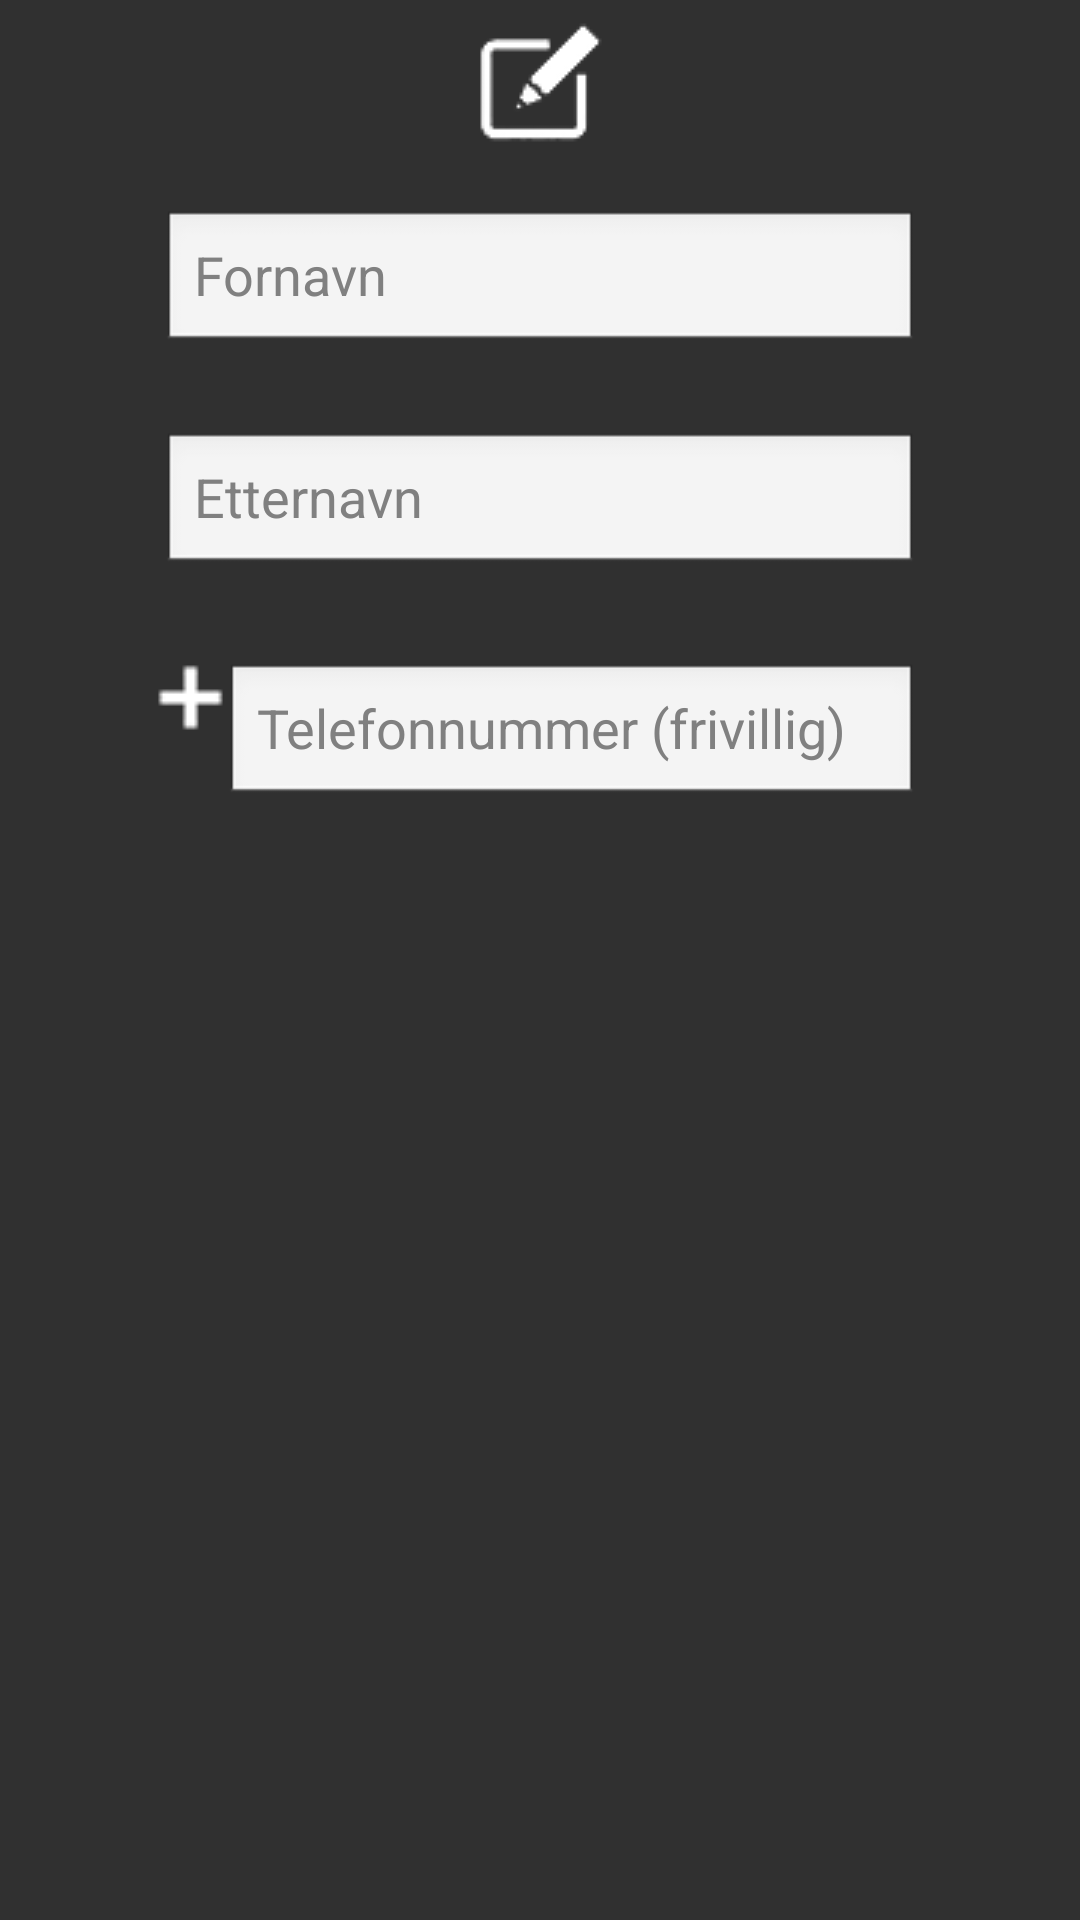

Named icons in this screenshot (1080*1920) and their centers, (x,y):
editlarge: (540,82)
plus: (190,697)
